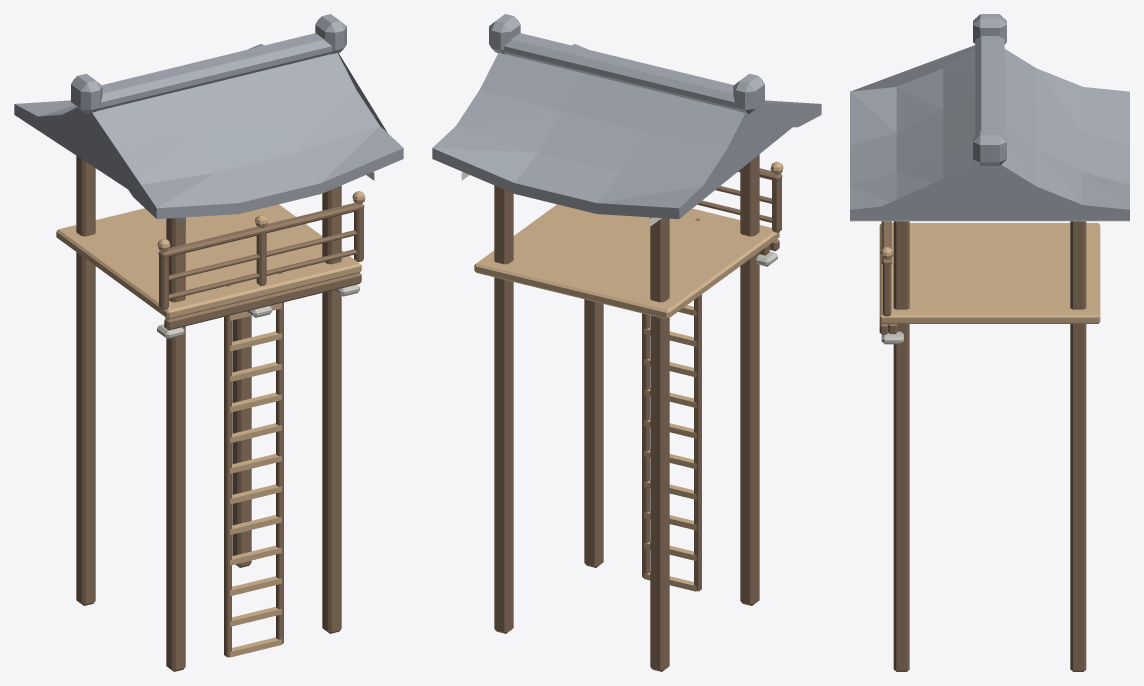
The model's file is town-watchtower.glb.
The picture shows the model from 3 angles, left to right: view 1: azimuth 30°, elevation 25°; view 2: azimuth 150°, elevation 25°; view 3: azimuth 270°, elevation 25°; orthographic projection.
Parts seen in each view (by area): view 1: town-watchtower; view 2: town-watchtower; view 3: town-watchtower.
Boxes of the visible parts, x1=… form: town-watchtower: x1=14, y1=14, x2=403, y2=671; town-watchtower: x1=432, y1=14, x2=821, y2=671; town-watchtower: x1=850, y1=14, x2=1129, y2=671.
Bounding box in the file's own units: 4.1 × 8.36 × 3.8.
